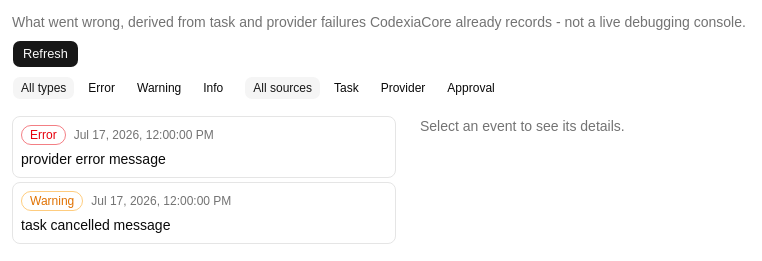
Test: Log › filtering by source narrows the visible events
expect the text "provider error message" is shown: met, box [21,149,166,169]
Click the button "Task".
click(346, 88)  # box [325,76,368,100]
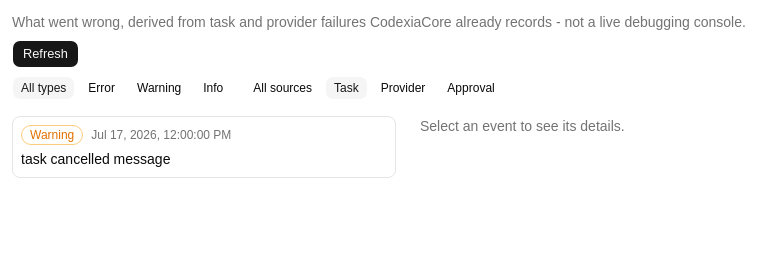
expect the text "task cancelled message" is shown: met, box [21,149,170,169]
expect the button "provider error message" is gone: met
